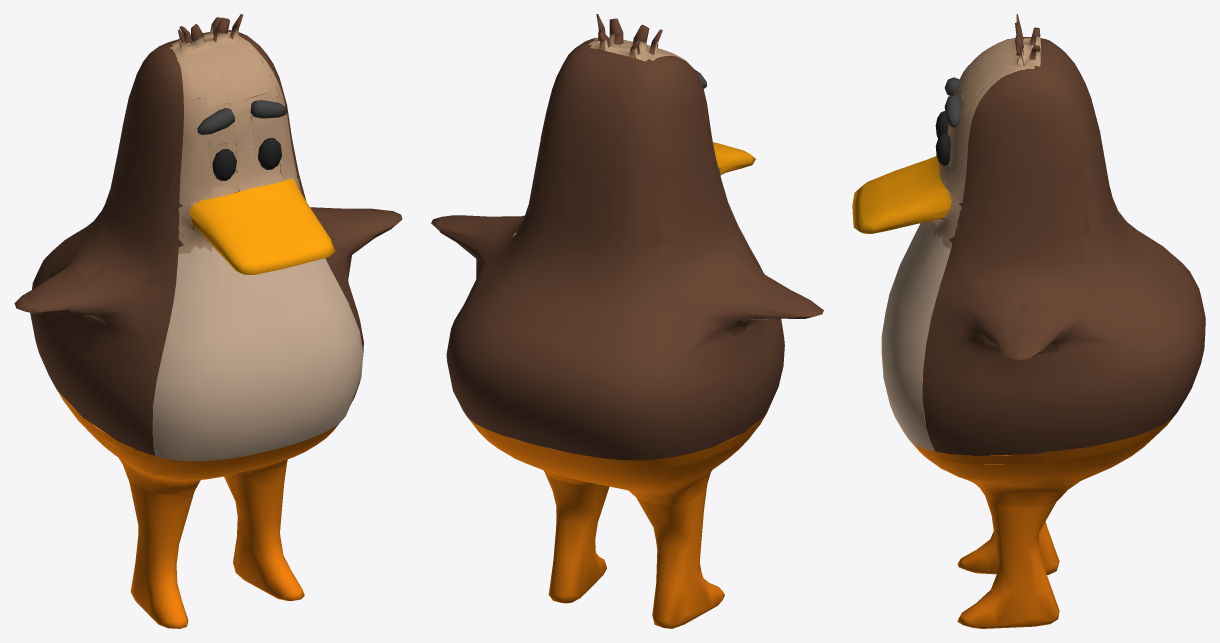
File: ducky-lod1.glb
3 views of the same model, side by side, from view 1: azimuth 30°, elevation 25°; view 2: azimuth 150°, elevation 25°; view 3: azimuth 270°, elevation 25° (orthographic). The views are drawn at different scales.
Parts seen in each view (by area): view 1: ducky.001; view 2: ducky.001; view 3: ducky.001.
Part boxes in pixels (bbox=[...]): ducky.001: bbox=[14, 14, 402, 628]; ducky.001: bbox=[431, 14, 823, 628]; ducky.001: bbox=[852, 14, 1205, 628].
Size of the model in its own units: 13.08 by 18.71 by 10.53.
Materials: 1 (1 with a texture image).
